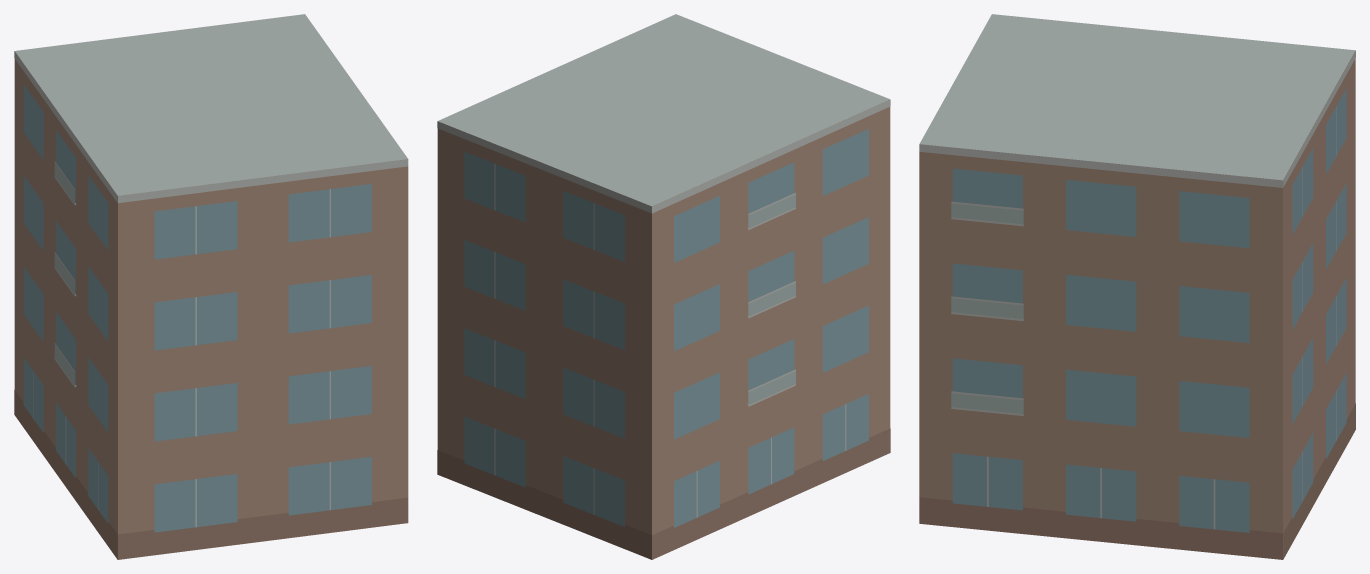
Rendered from residential-e7a08334-1b49-4160-b610-9decce03e2aa.glb.
3 renders of one model, left to right at view 1: azimuth 30°, elevation 25°; view 2: azimuth 150°, elevation 25°; view 3: azimuth 270°, elevation 25°, orthographic. The views are drawn at different scales.
Visible parts, largest first — view 1: residential-e7a08334-1b49-4160-b610-9decce03e2aa.tmp; view 2: residential-e7a08334-1b49-4160-b610-9decce03e2aa.tmp; view 3: residential-e7a08334-1b49-4160-b610-9decce03e2aa.tmp.
Part boxes in pixels (bbox=[...]): residential-e7a08334-1b49-4160-b610-9decce03e2aa.tmp: bbox=[14, 14, 408, 559]; residential-e7a08334-1b49-4160-b610-9decce03e2aa.tmp: bbox=[437, 14, 890, 559]; residential-e7a08334-1b49-4160-b610-9decce03e2aa.tmp: bbox=[919, 14, 1355, 559].
Bounding box in the file's own units: 11.48 × 12.2 × 12.72.
